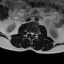CCS_normal: (31, 31, 32, 38)
LFS_severe_stenosis: (34, 31, 36, 36)
LLS_stenosis: (32, 31, 34, 36)
RFS_stenosis: (27, 30, 29, 35)
RLS_stenosis: (29, 30, 31, 35)
